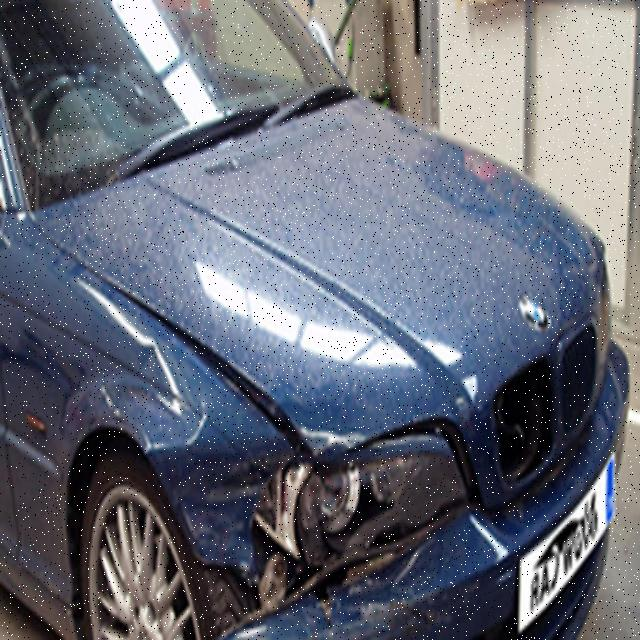damage: (148, 451, 462, 639)
